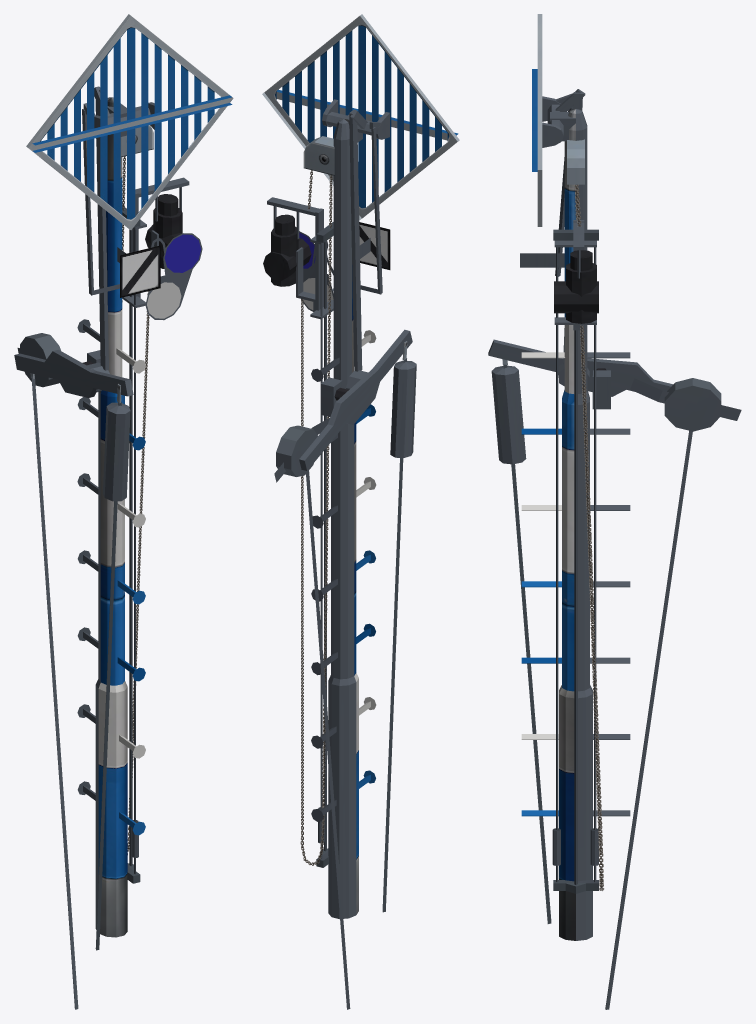
File: serazovaci.obj
The picture shows the model from 3 angles, left to right: view 1: azimuth 30°, elevation 25°; view 2: azimuth 150°, elevation 25°; view 3: azimuth 270°, elevation 25°; orthographic projection. The views are drawn at different scales.
Parts seen in each view (by area): view 1: sloup, stit, tahlo_2, zavazi, tahlo_1, skupinove, tahlo_3, retez, modra, bila, tahlo_5, drzak_clonek; view 2: sloup, stit, zavazi, tahlo_2, retez, tahlo_3, tahlo_1, skupinove, tahlo_5; view 3: sloup, zavazi, tahlo_2, stit, retez, tahlo_1, skupinove.
Part boxes in pixels (<box>): sloup: <box>77,97,189,937</box>; stit: <box>26,14,233,229</box>; tahlo_2: <box>95,384,130,950</box>; zavazi: <box>14,333,133,397</box>; tahlo_1: <box>30,373,78,1009</box>; skupinove: <box>117,245,160,297</box>; tahlo_3: <box>95,86,108,370</box>; retez: <box>122,156,149,854</box>; modra: <box>164,234,201,272</box>; bila: <box>147,282,181,318</box>; tahlo_5: <box>82,109,93,295</box>; drzak_clonek: <box>145,233,202,320</box>; sloup: <box>263,114,376,919</box>; stit: <box>262,14,459,219</box>; zavazi: <box>274,329,412,482</box>; tahlo_2: <box>382,341,416,912</box>; retez: <box>300,170,332,865</box>; tahlo_3: <box>349,109,362,371</box>; tahlo_1: <box>305,469,350,1009</box>; skupinove: <box>359,222,390,269</box>; tahlo_5: <box>371,127,382,294</box>; sloup: <box>521,109,630,940</box>; zavazi: <box>488,339,741,431</box>; tahlo_2: <box>491,359,551,923</box>; stit: <box>532,14,585,226</box>; retez: <box>574,184,604,890</box>; tahlo_1: <box>605,430,692,1009</box>; skupinove: <box>520,253,564,267</box>.
Bounding box in the file's own units: 0.7335 × 3.46 × 0.7908.
